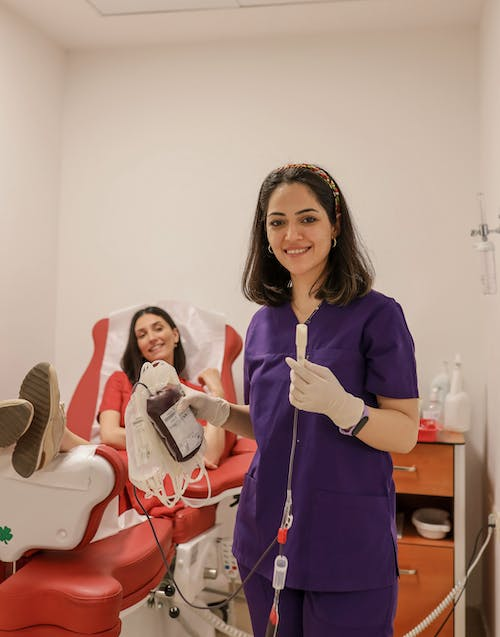blood: (145, 380, 206, 464), (261, 600, 281, 637)
